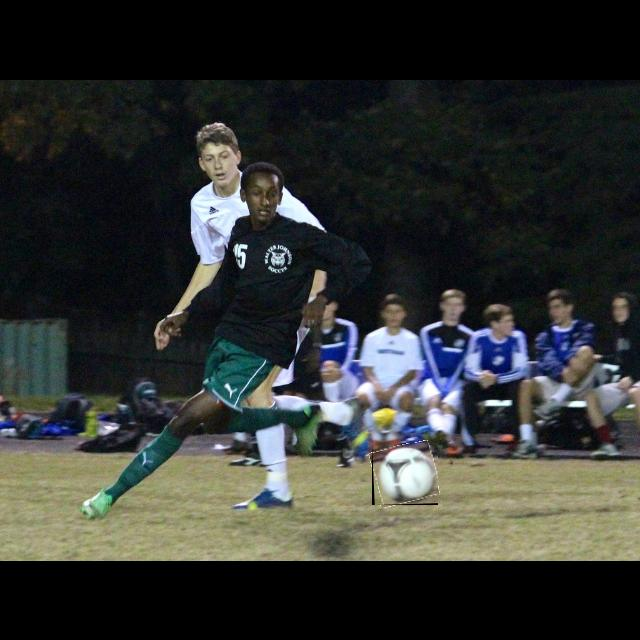Football: (372, 443, 438, 505)
